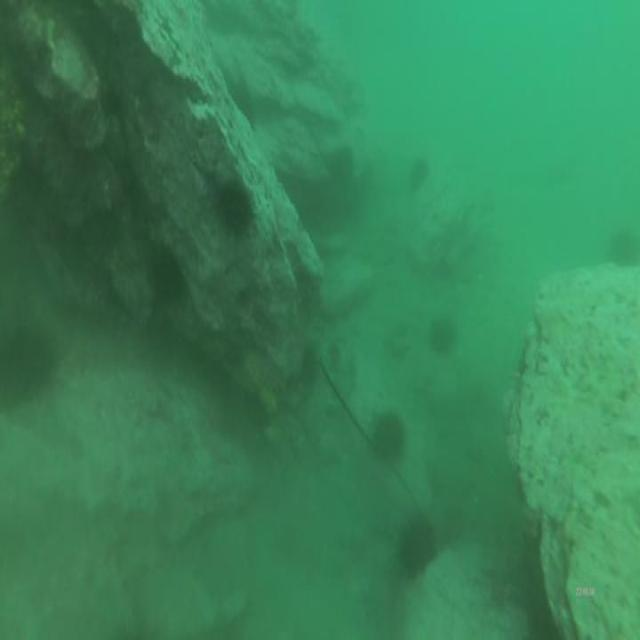echinus: (1, 322, 52, 410), (395, 512, 439, 582), (213, 177, 255, 242), (368, 403, 409, 468), (148, 237, 185, 308), (426, 306, 461, 362), (606, 226, 640, 273), (298, 342, 322, 391), (406, 154, 430, 198)
